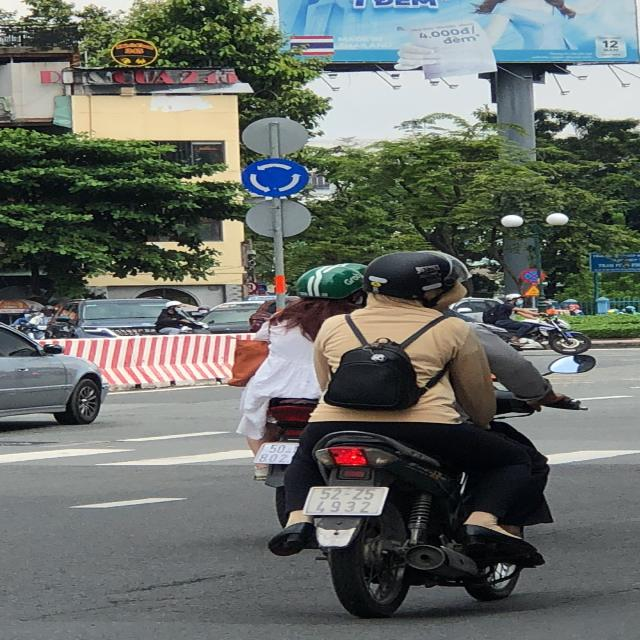Bien bao noi giao nhau chay theo vong xuyen: (239, 158, 313, 198)
